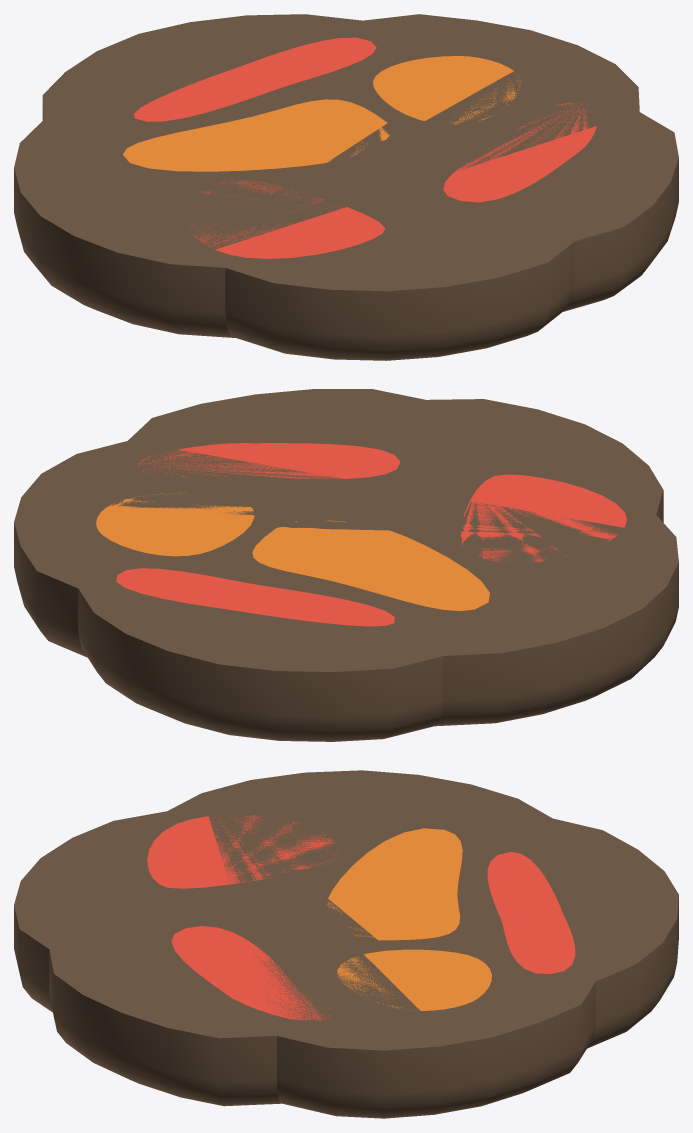
Rendered from Burger Bread  Down I.fbx.
3 renders of one model, top to bottom at view 1: azimuth 30°, elevation 25°; view 2: azimuth 150°, elevation 25°; view 3: azimuth 270°, elevation 25°, orthographic. The views are drawn at different scales.
Parts seen in each view (by area): view 1: Burger Bread Down I; view 2: Burger Bread Down I; view 3: Burger Bread Down I.
Boxes of the visible parts, x1,y1,x2,y2 form: Burger Bread Down I: (14, 14, 678, 360); Burger Bread Down I: (14, 389, 678, 741); Burger Bread Down I: (14, 770, 678, 1118).
Size of the model in its own units: 0.7438 by 0.1016 by 0.7457.
